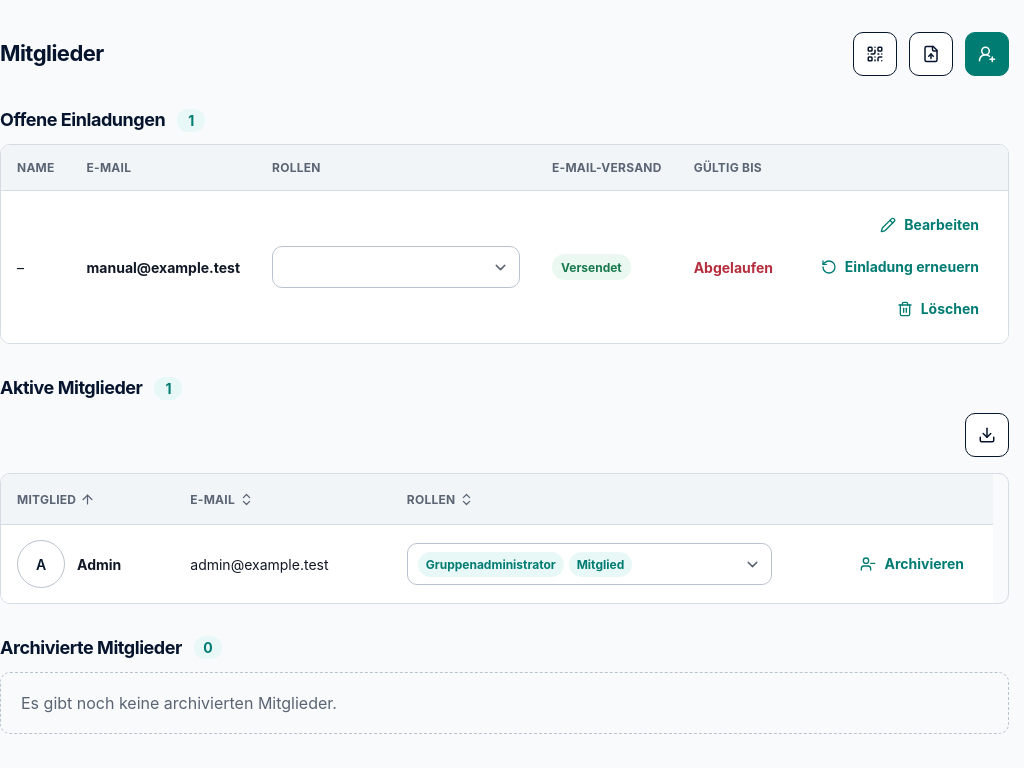
Scenario: MembersPanel invitations › sends a manual invitation through configured email delivery and retains the fallback link
The image size is (1024, 768).
Click the button named "Mitglied einladen": coordinates (987, 54) [965,32,1009,76]
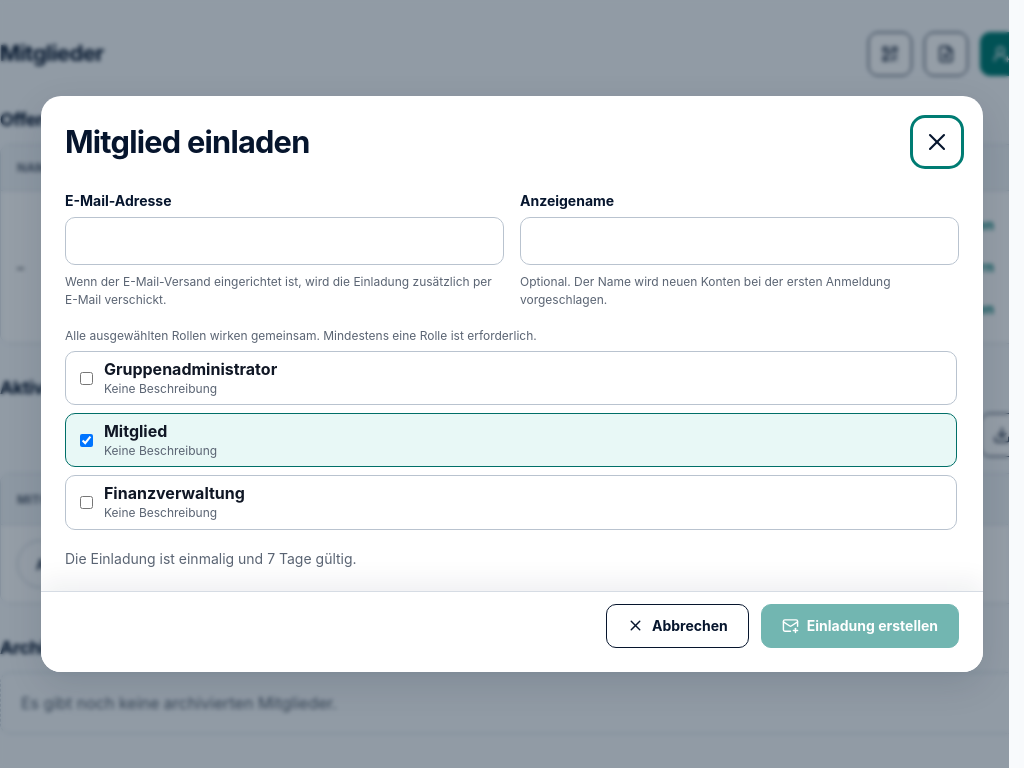
In the field labelled "E-Mail-Adresse": coordinates (284, 241) [65,217,504,265], type "manual@example.test"
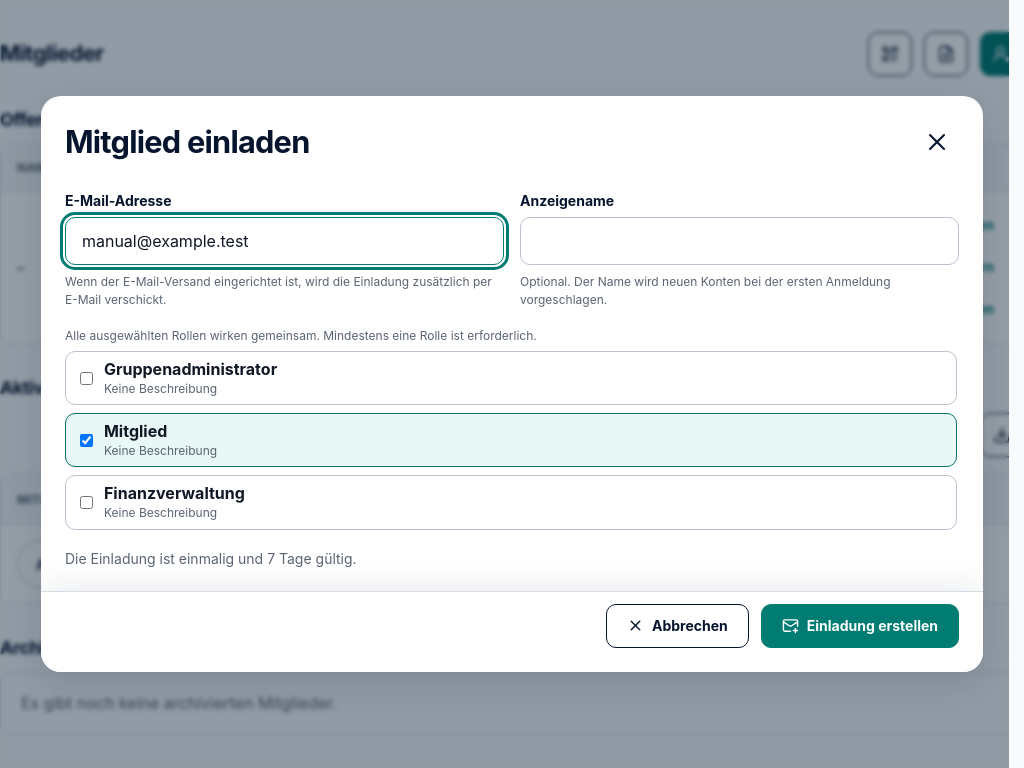
Click the button "Einladung erstellen": coordinates (860, 626) [761,604,959,648]
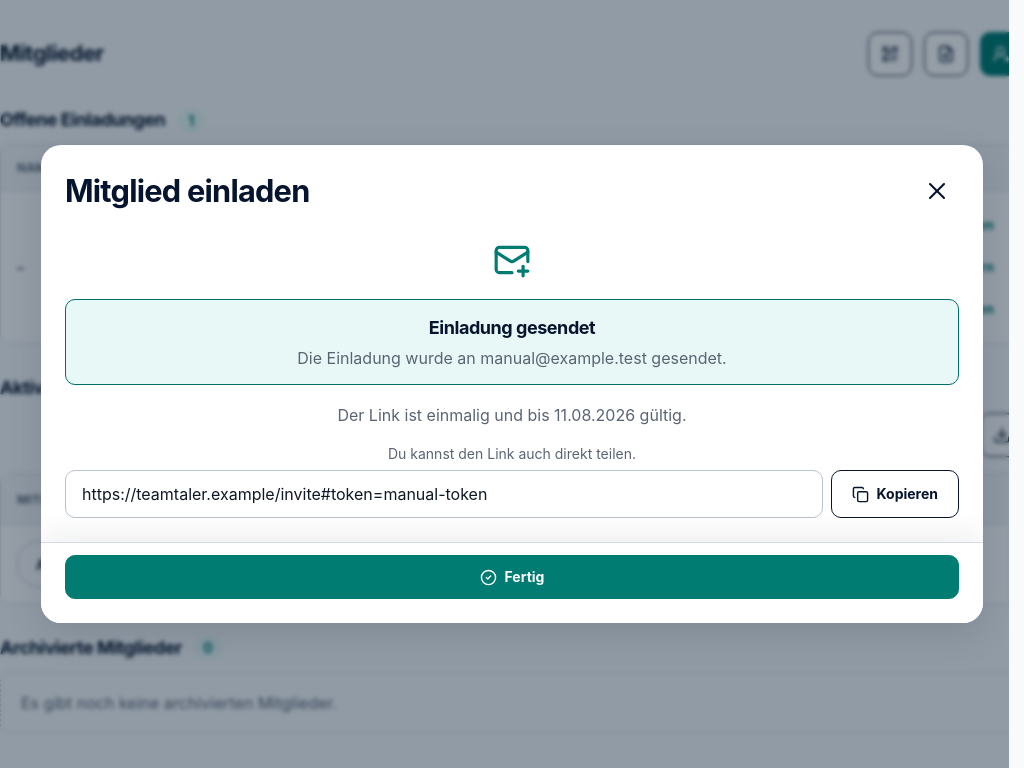
Check: the heading "Einladung gesendet" is shown, box [429,317,595,338]
Check: the text "Du kannst den Link auch direkt teilen." is shown, box [388,445,636,462]
Check: the text "Der Link ist einmalig und bis 11.08.2026 gültig." is shown, box [338,405,687,425]
